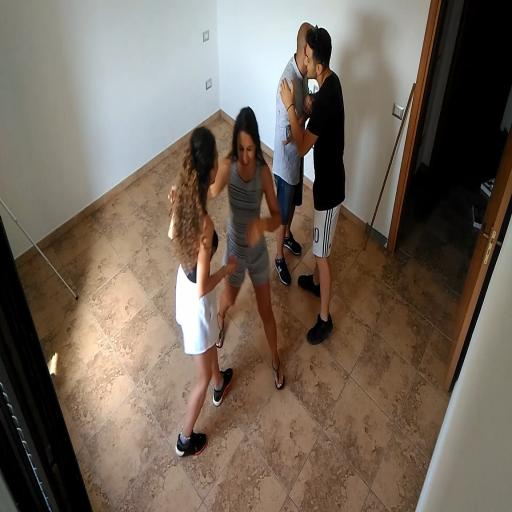nao-violencia: (145, 104, 291, 466), (266, 10, 352, 348)
